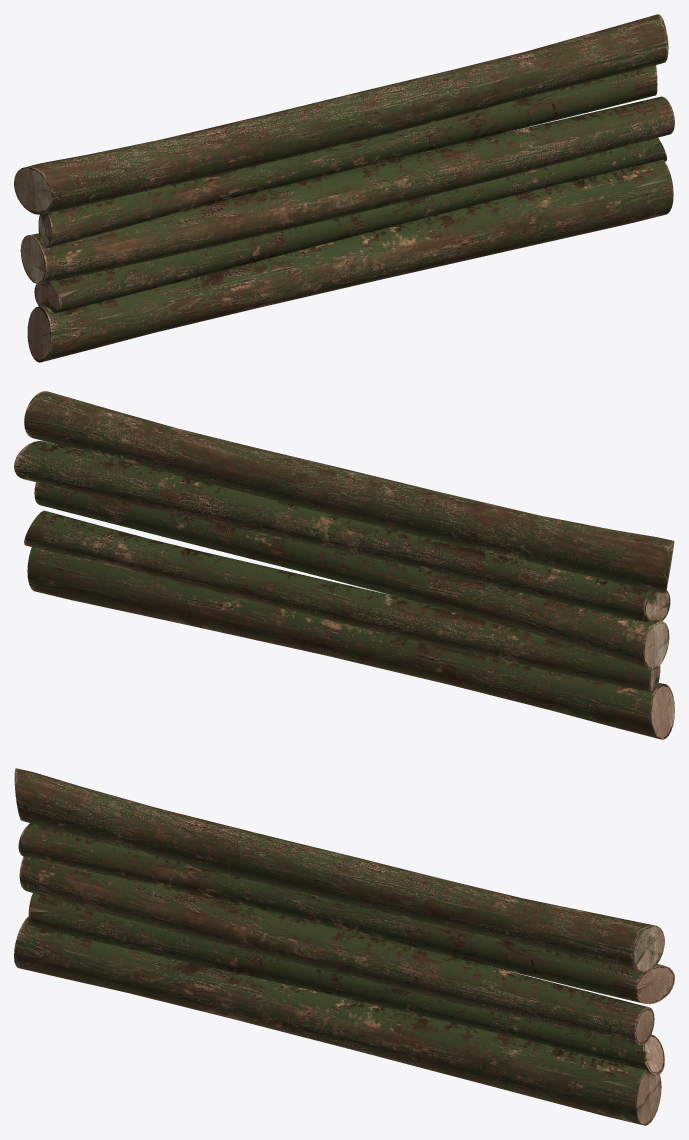
Rendered from SM_Logs.fbx.
The picture shows the model from 3 angles, top to bottom: view 1: azimuth 30°, elevation 25°; view 2: azimuth 150°, elevation 25°; view 3: azimuth 330°, elevation 25°; orthographic projection.
Parts seen in each view (by area): view 1: SM_Logs_LOD0; view 2: SM_Logs_LOD0; view 3: SM_Logs_LOD0.
Part boxes in pixels (x1=…): SM_Logs_LOD0: x1=14, y1=14, x2=674, y2=362; SM_Logs_LOD0: x1=14, y1=391, x2=674, y2=739; SM_Logs_LOD0: x1=14, y1=768, x2=674, y2=1125.
Size of the model in its own units: 866 by 79.66 by 257.
Materials: 1 (1 with a texture image).
